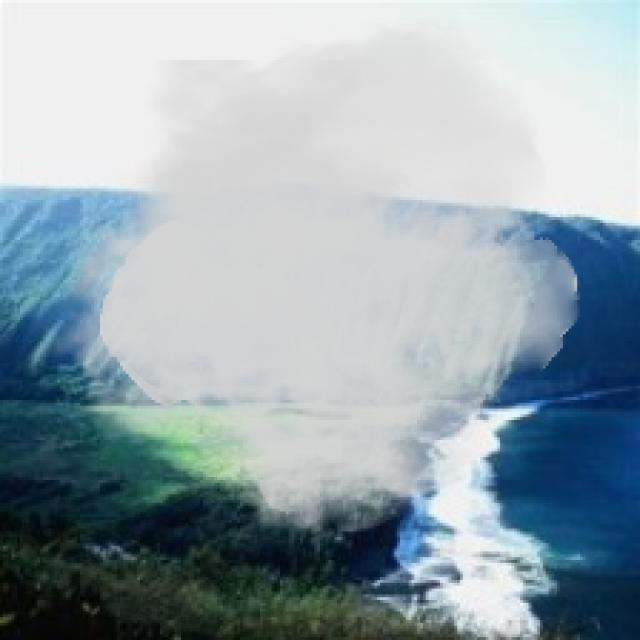Smoke: (46, 14, 580, 540)
